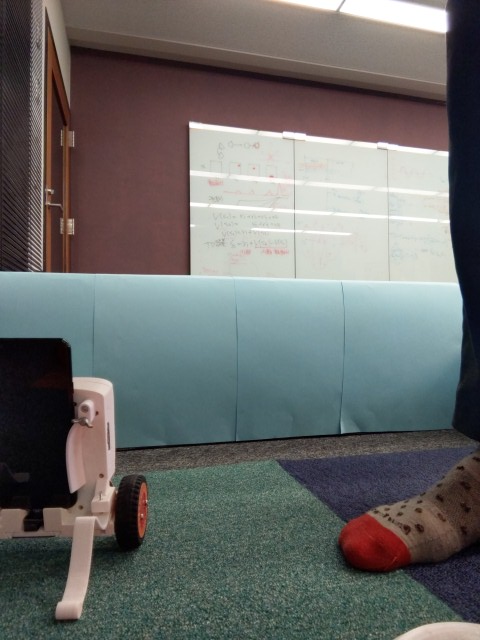f: (1, 329, 154, 626)
